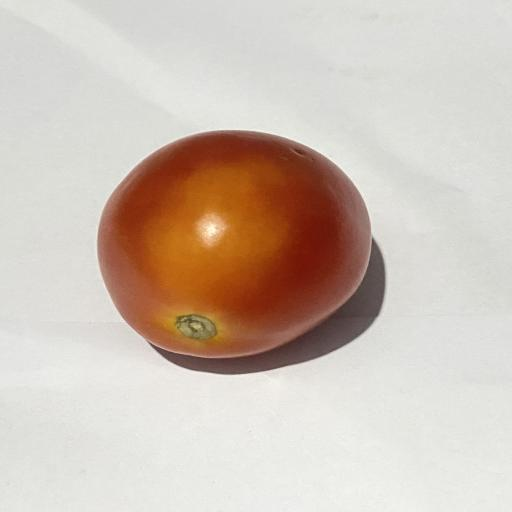ripe: (98, 131, 371, 358)
